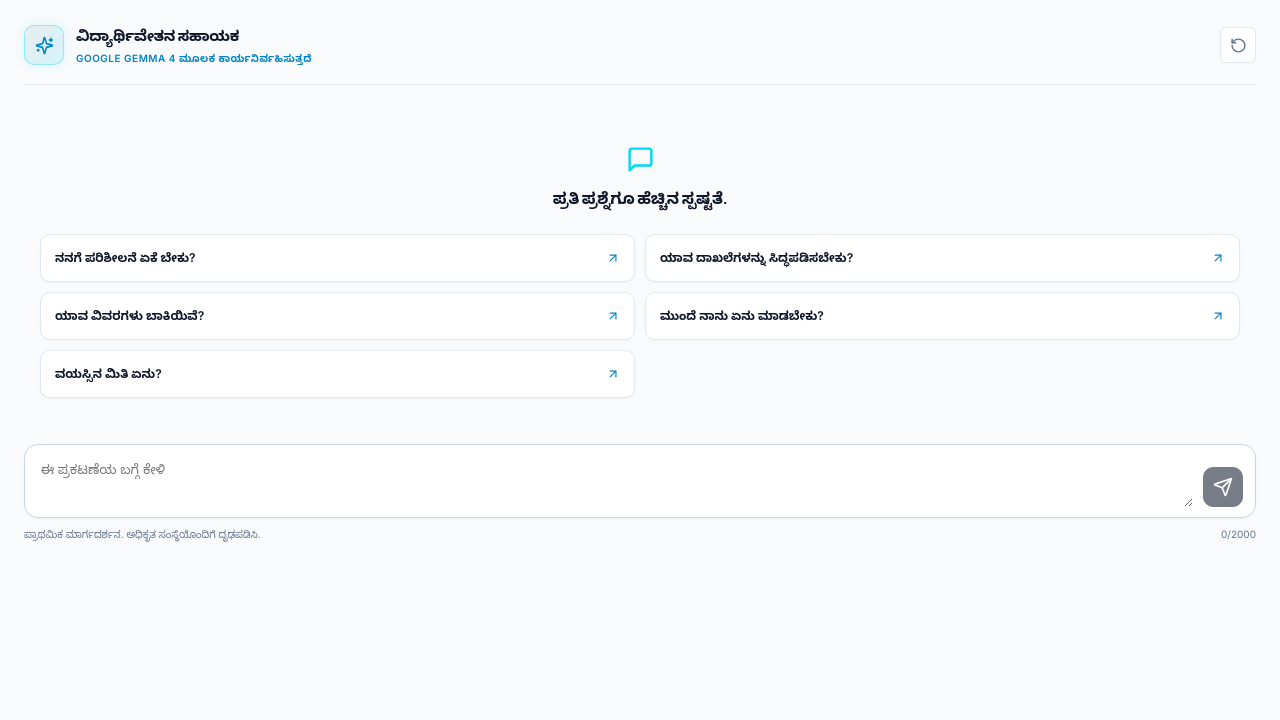
sends a Kannada question, shows citations, and resets the server conversation
Type "ಏಕೆ?" into the text box labelled "ಈ ಪ್ರಕಟಣೆಯ ಬಗ್ಗೆ ಕೇಳಿ" at (615,481), box [37,455,1193,507]
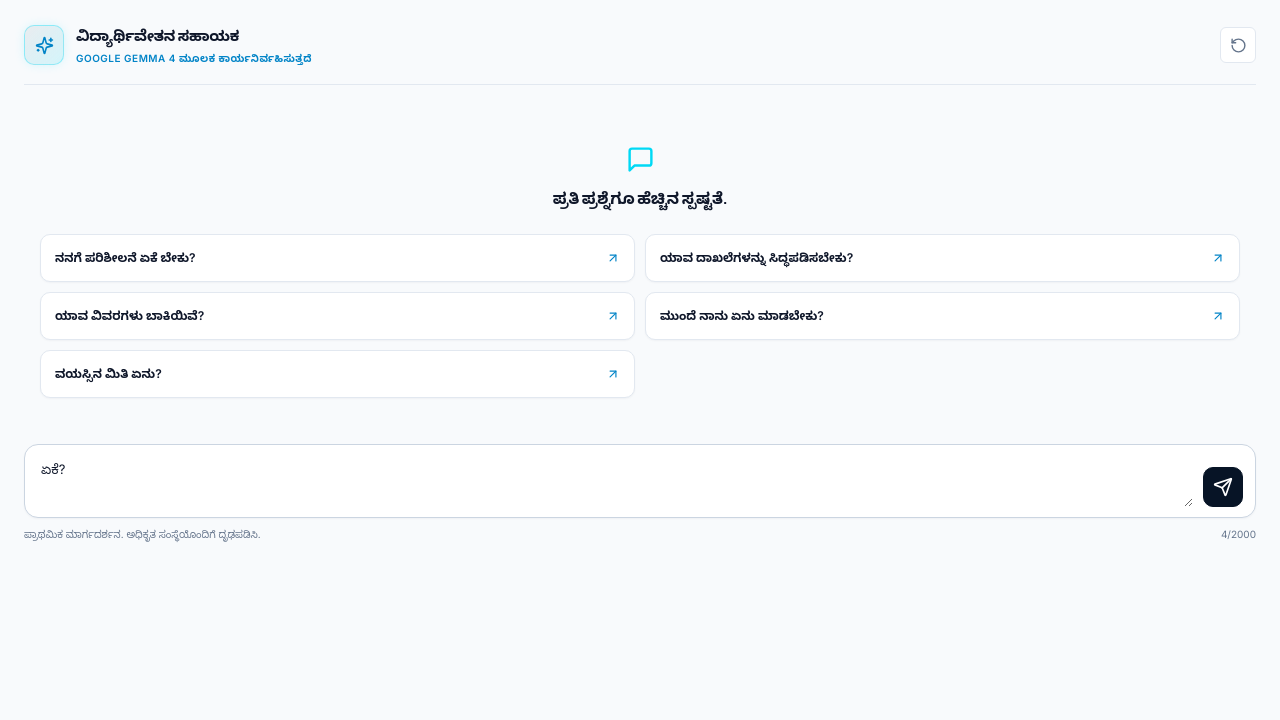
Click the button named "ಪ್ರಶ್ನೆ ಕಳುಹಿಸಿ" at (1223,487), box [1203,467,1243,507]
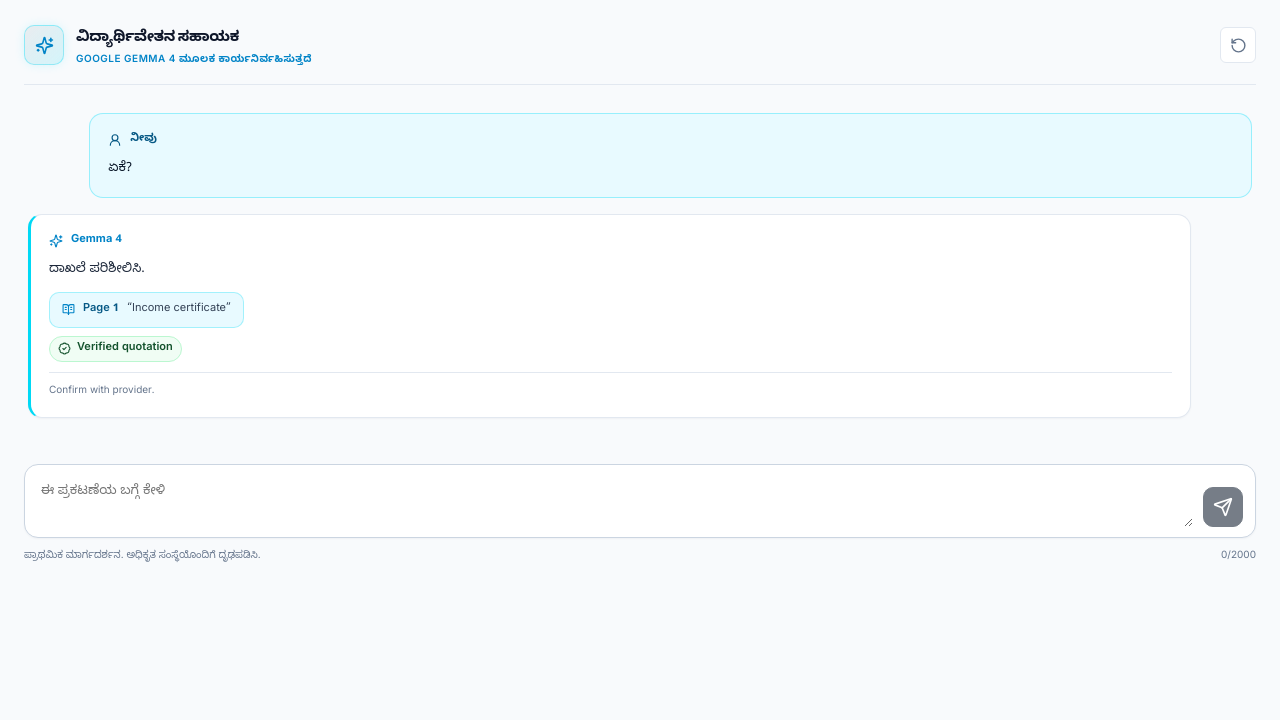
Result: the text "ದಾಖಲೆ ಪರಿಶೀಲಿಸಿ." is shown at [49,261,145,279]
Click the button named "ಸಂಭಾಷಣೆ ಮರುಹೊಂದಿಸಿ" at (1238,45), box [1220,27,1256,63]
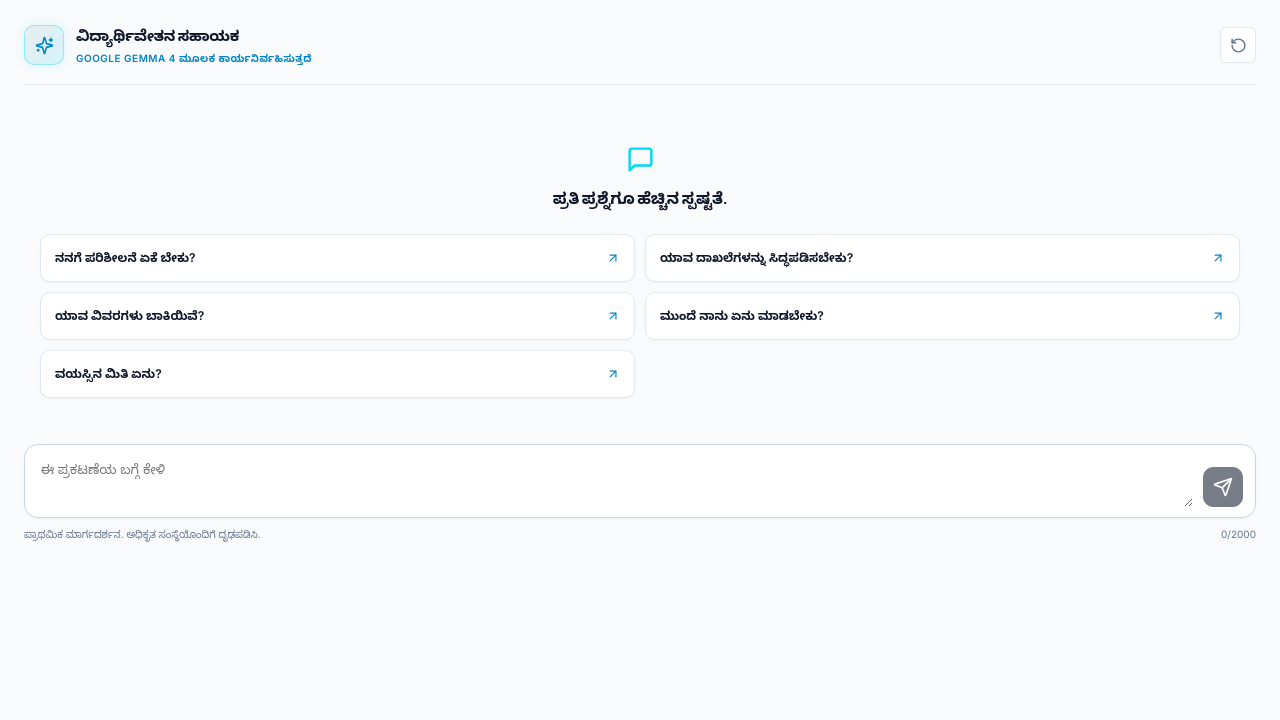
Result: the text "ದಾಖಲೆ ಪರಿಶೀಲಿಸಿ." is gone
